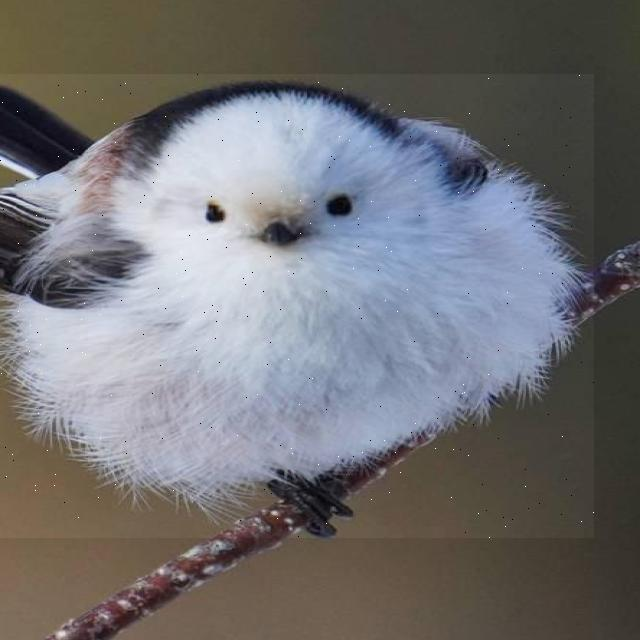bird: (0, 74, 594, 538)
